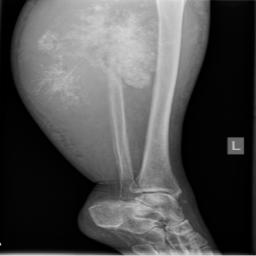cancer: (18, 1, 170, 101)
